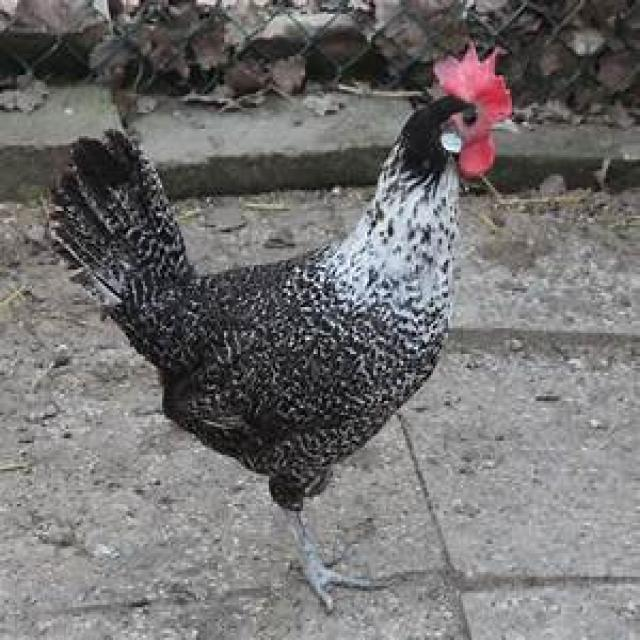animal: (23, 49, 615, 548)
